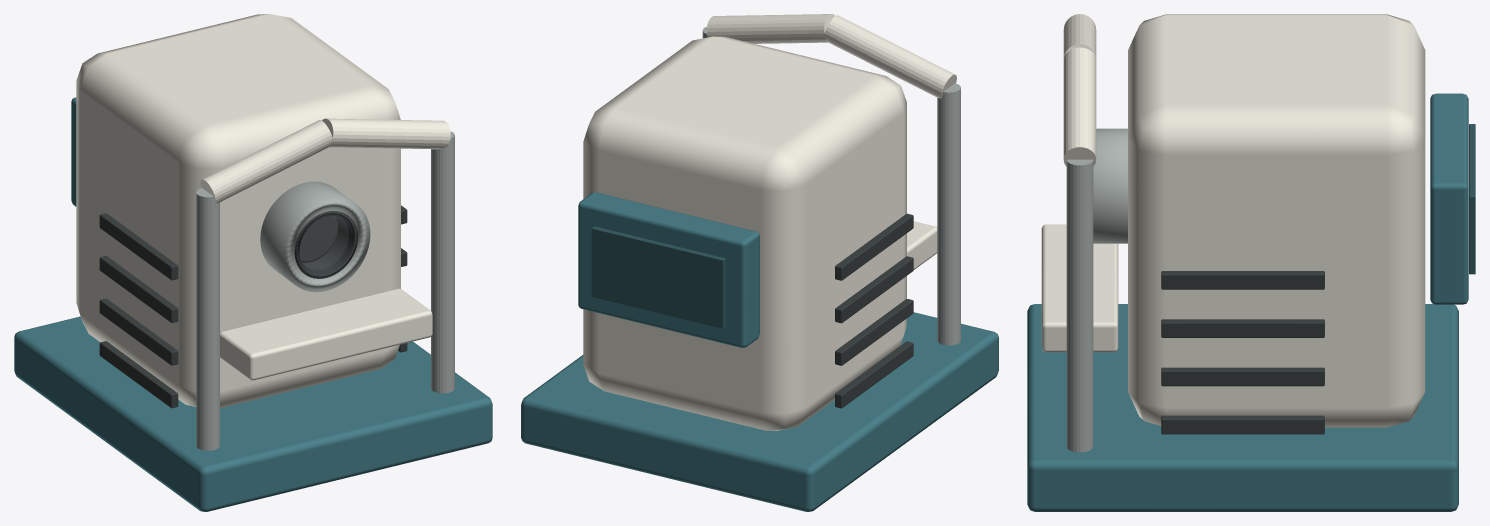
The model's file is optician-and-optical-lens-workshop-optician-and-optica-6f3b2c6d__31674.glb.
The picture shows the model from 3 angles, left to right: view 1: azimuth 30°, elevation 25°; view 2: azimuth 150°, elevation 25°; view 3: azimuth 270°, elevation 25°; orthographic projection. The views are drawn at different scales.
Visible parts, largest first — view 1: optician-and-optical-lens-workshop-autorefractor; view 2: optician-and-optical-lens-workshop-autorefractor; view 3: optician-and-optical-lens-workshop-autorefractor.
Boxes of the visible parts, box(x1,y1,x2,y2) form: optician-and-optical-lens-workshop-autorefractor: box(14, 14, 492, 511); optician-and-optical-lens-workshop-autorefractor: box(521, 14, 998, 511); optician-and-optical-lens-workshop-autorefractor: box(1027, 14, 1475, 511).
Bounding box in the file's own units: 0.4 × 0.4465 × 0.4675.
